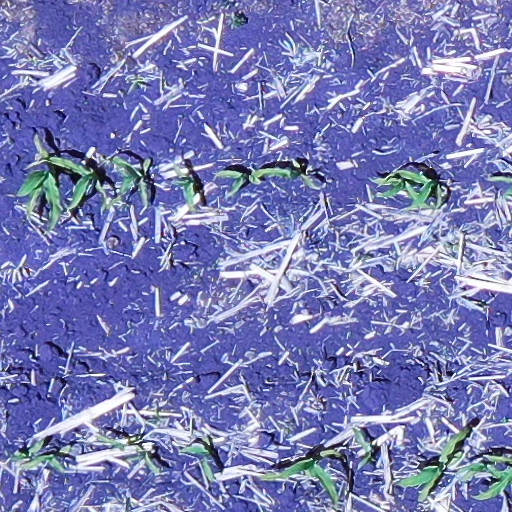planta: (399, 428, 469, 501), (259, 449, 347, 506), (40, 154, 95, 210), (19, 170, 61, 228), (108, 155, 149, 203), (394, 168, 435, 211), (375, 175, 429, 206), (181, 445, 216, 479), (19, 453, 66, 472), (248, 166, 300, 183), (13, 438, 44, 462), (175, 176, 195, 212), (217, 169, 247, 193)
